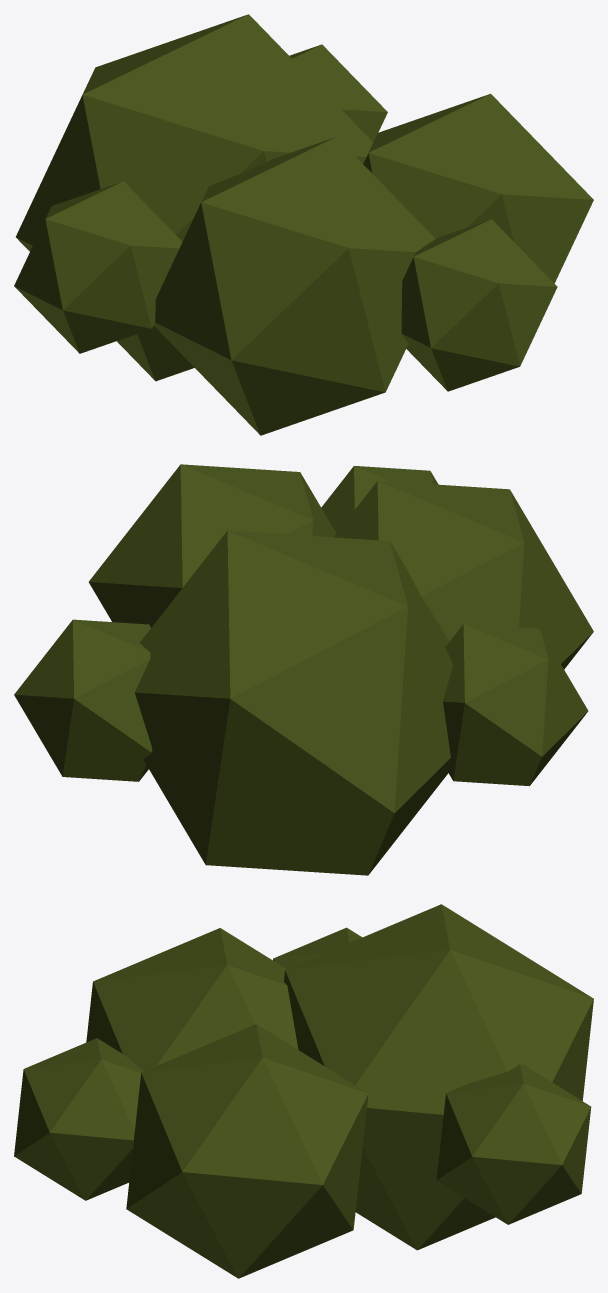
File: buicay.fbx
3 views of the same model, one above another, from view 1: azimuth 30°, elevation 25°; view 2: azimuth 150°, elevation 25°; view 3: azimuth 270°, elevation 25° (orthographic). The views are drawn at different scales.
Parts seen in each view (by area): view 1: buicay; view 2: buicay; view 3: buicay.
Boxes of the visible parts, bbox=[...] form: buicay: bbox=[14, 14, 593, 435]; buicay: bbox=[14, 464, 593, 875]; buicay: bbox=[14, 904, 593, 1278].
Bounding box in the file's own units: 2.55 × 1.66 × 2.83.
Materials: 1 (1 with a texture image).
